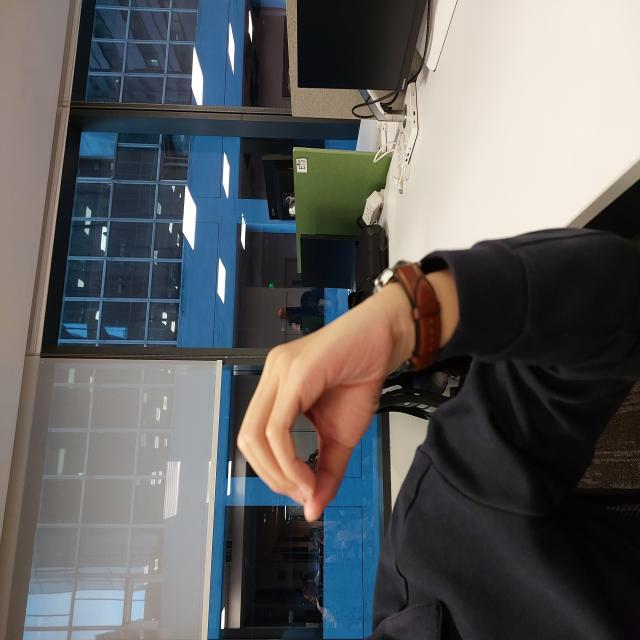O: (117, 237, 321, 394)
